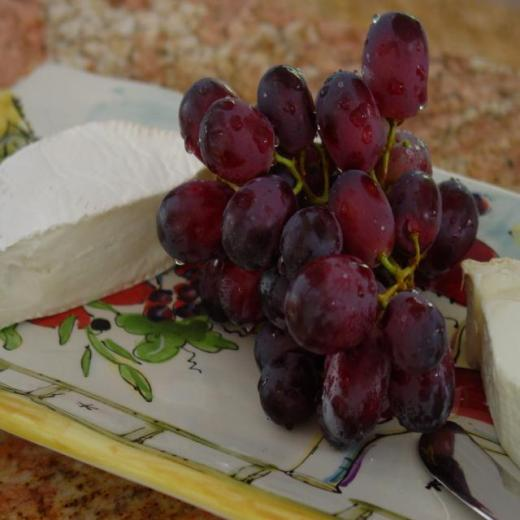Orange: (156, 11, 482, 448)
